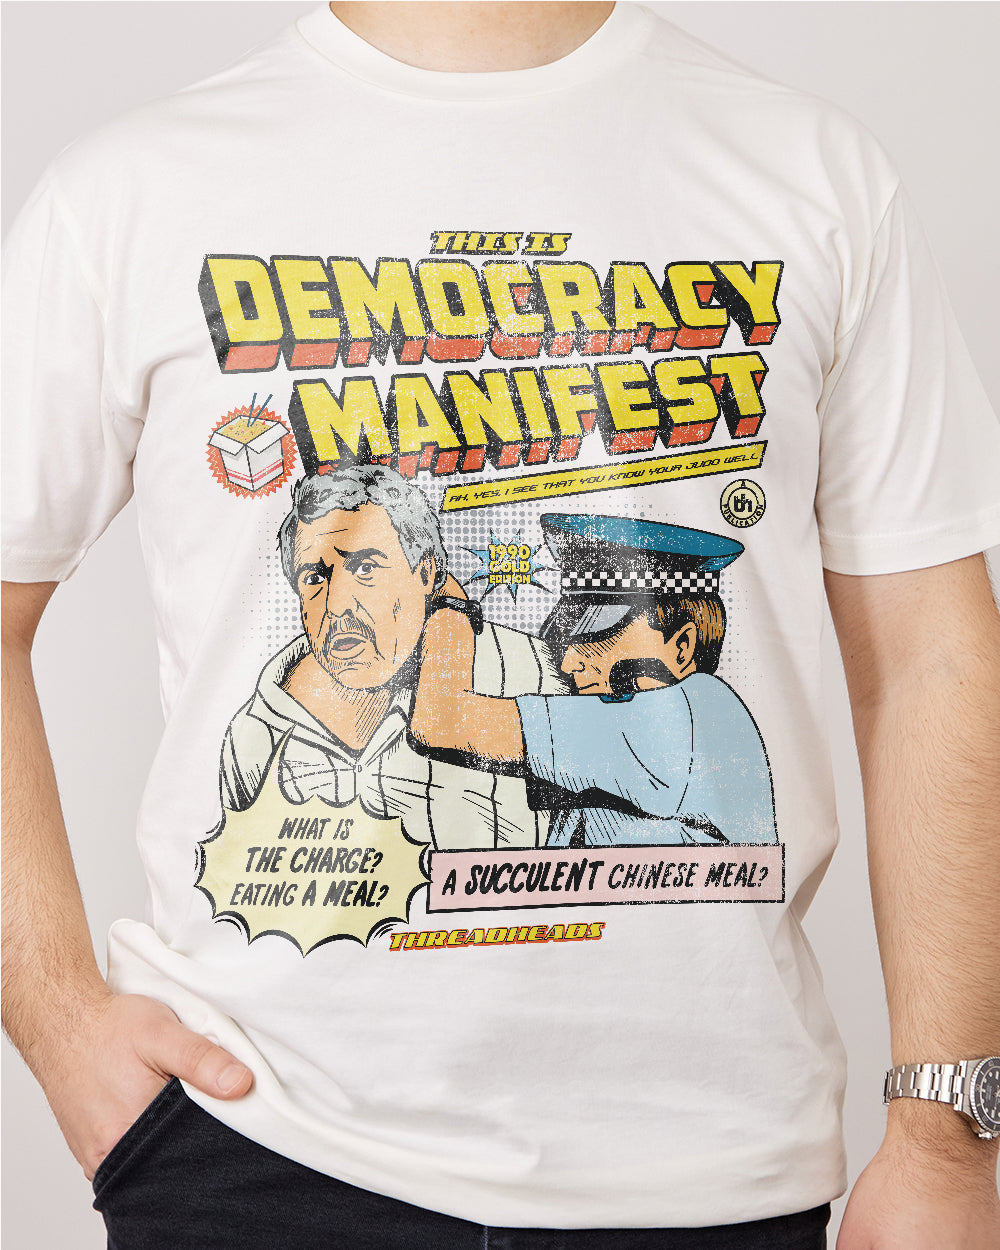design: (182, 221, 794, 964)
